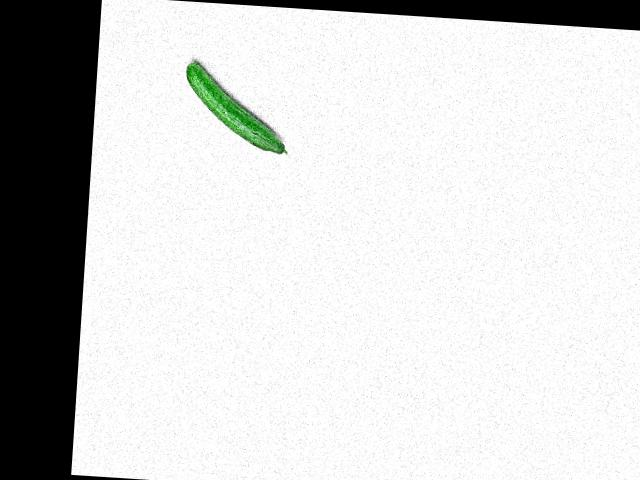cucumber: (182, 61, 294, 154)
